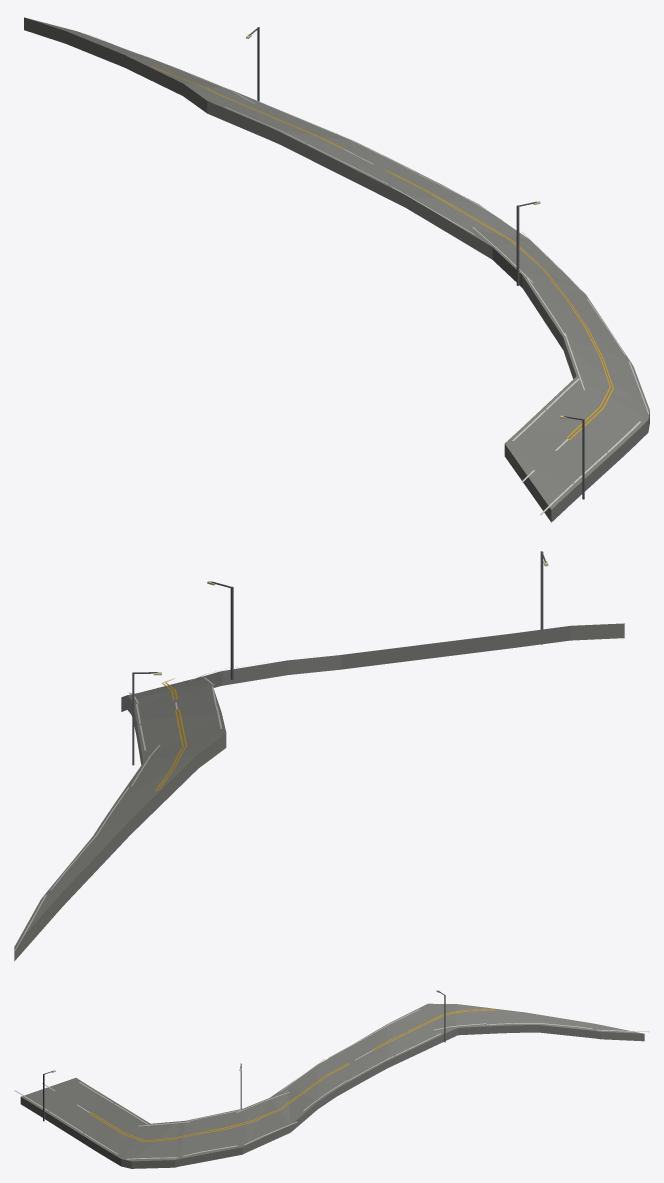
Rendered from 16-54742-29736.caeac7c9.glb.
3 views of the same model, one above another, from view 1: azimuth 30°, elevation 25°; view 2: azimuth 150°, elevation 25°; view 3: azimuth 270°, elevation 25° (orthographic). The views are drawn at different scales.
Bounding box in the file's own units: 23.56 × 21.93 × 91.67.
